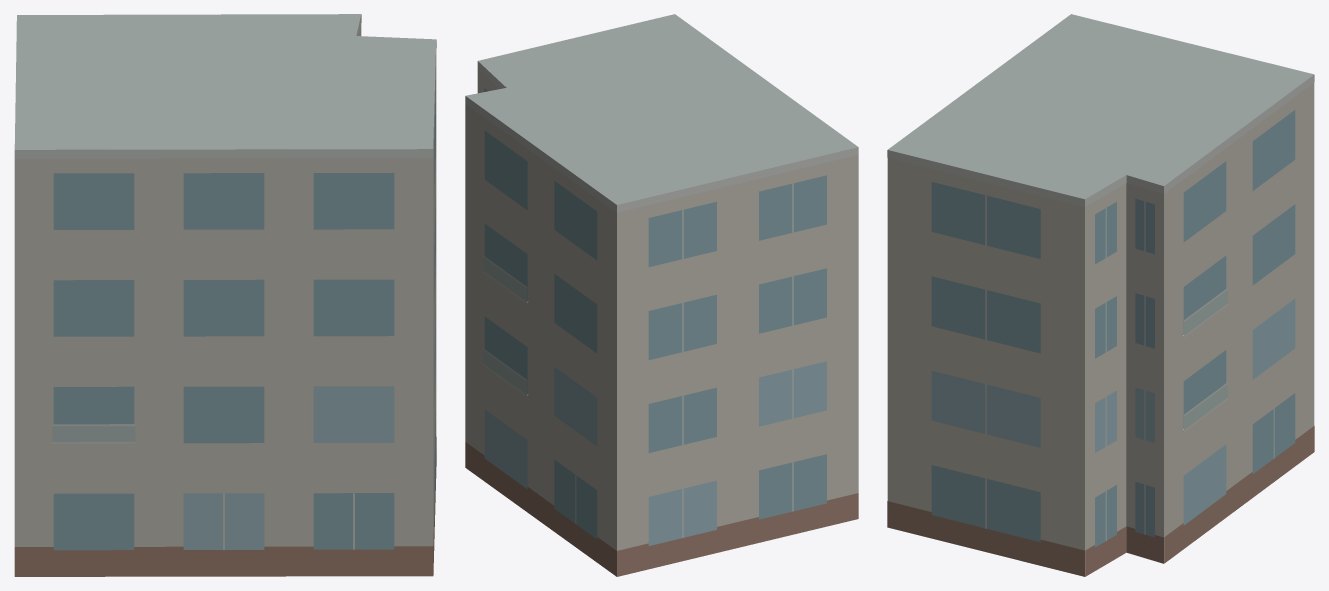
Rendered from survey-upis-32653314.glb.
3 views of the same model, side by side, from view 1: azimuth 30°, elevation 25°; view 2: azimuth 150°, elevation 25°; view 3: azimuth 270°, elevation 25° (orthographic). The views are drawn at different scales.
Visible parts, largest first — view 1: survey-upis-32653314.tmp; view 2: survey-upis-32653314.tmp; view 3: survey-upis-32653314.tmp.
Part boxes in pixels (x1,y1,x2,y2): survey-upis-32653314.tmp: (14,14,436,576); survey-upis-32653314.tmp: (465,14,858,576); survey-upis-32653314.tmp: (887,14,1314,576).
Size of the model in its own units: 12.32 by 11.7 by 12.
